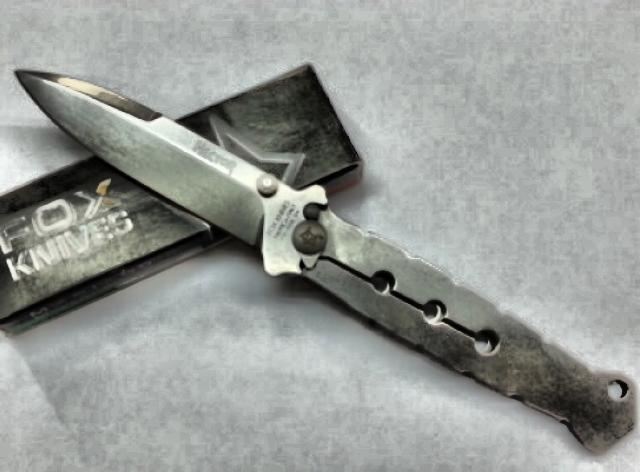knife: (6, 57, 288, 254)
